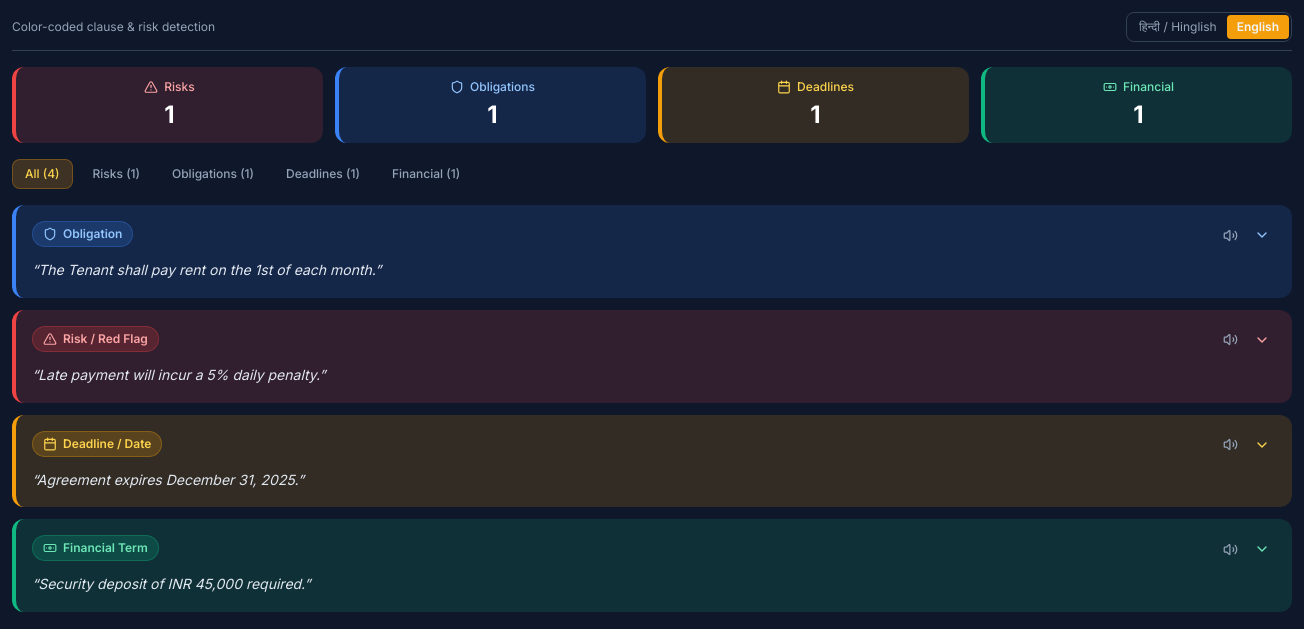
it: ClauseHighlighter › filters clauses when tab is clicked
Click the tab "Risks (1)".
click(116, 174)  # box [80, 159, 152, 189]
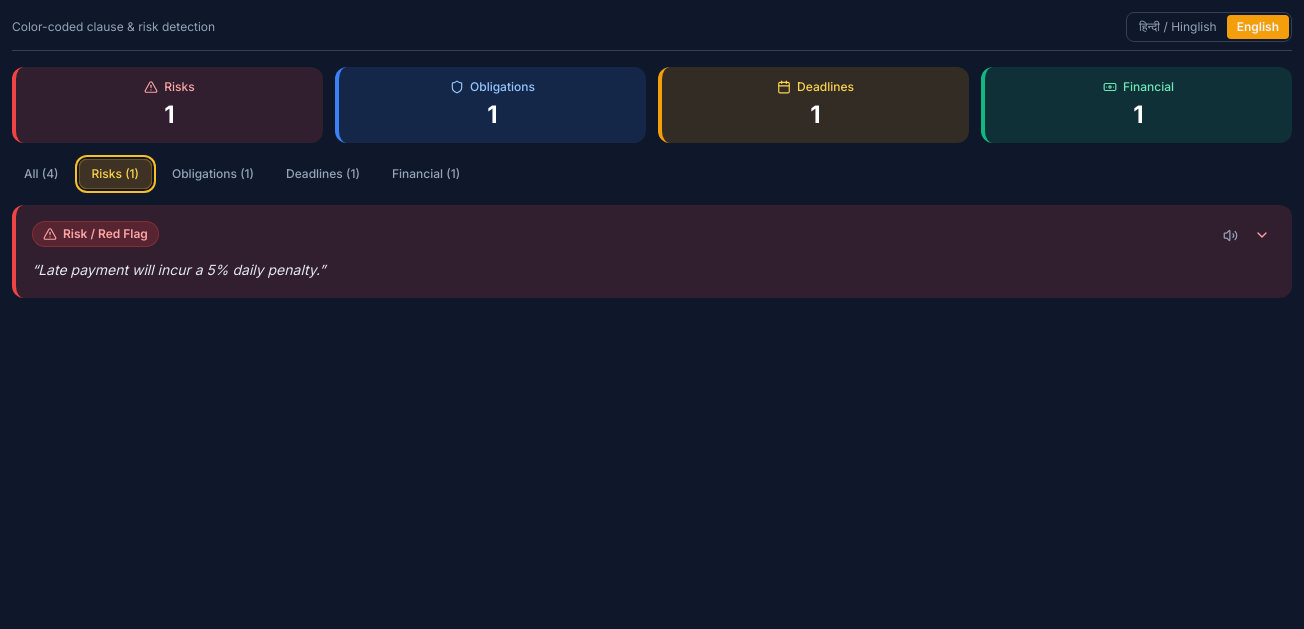
Expected: the text "“Late payment will incur a 5% daily penalty.”" is shown, [32, 261, 326, 278]
Result: the text "shall pay rent" is gone
